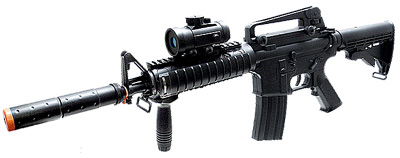rifle: (2, 17, 393, 142)
